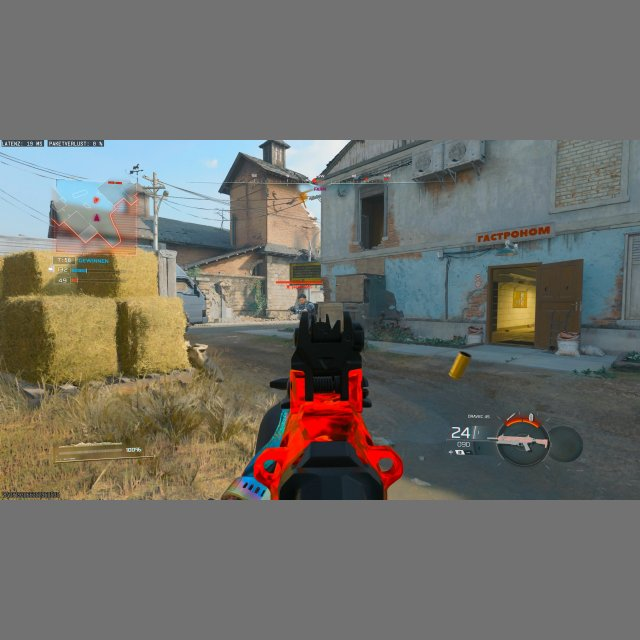head: (298, 294, 307, 303)
player: (288, 294, 316, 318)
